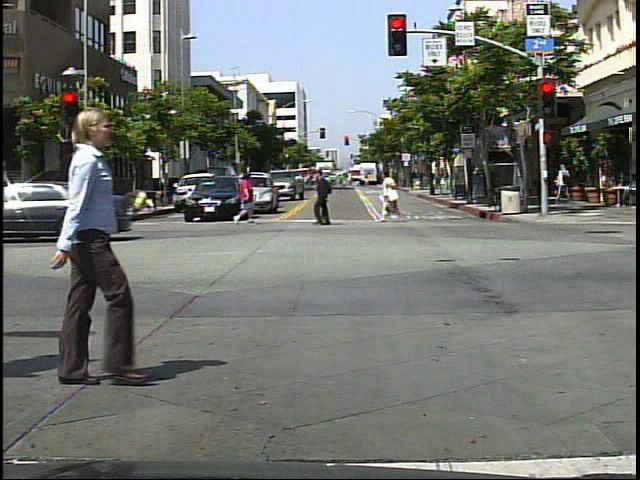person: (30, 90, 160, 401), (310, 157, 347, 232), (376, 163, 407, 227), (229, 168, 261, 227), (555, 160, 575, 207)
